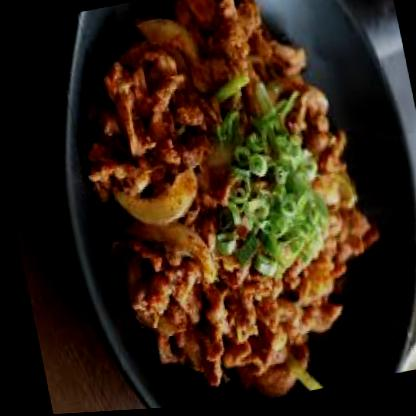jeyuk bokkeum: (66, 0, 396, 412)
